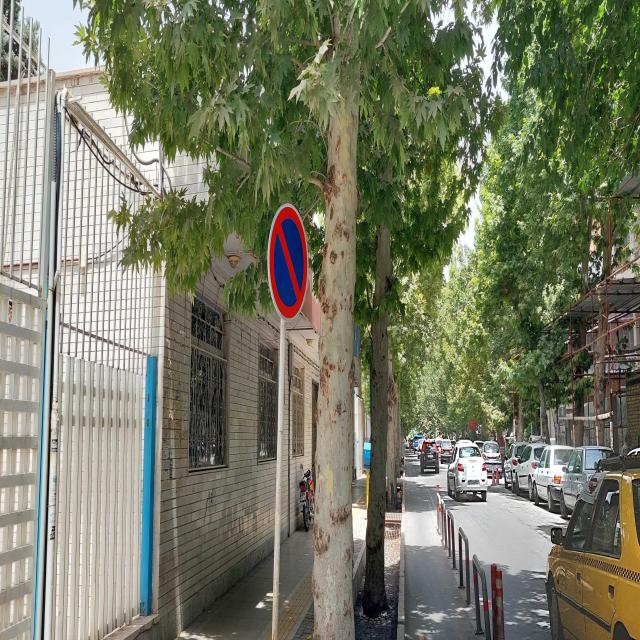forb_stopping: (267, 204, 308, 325)
